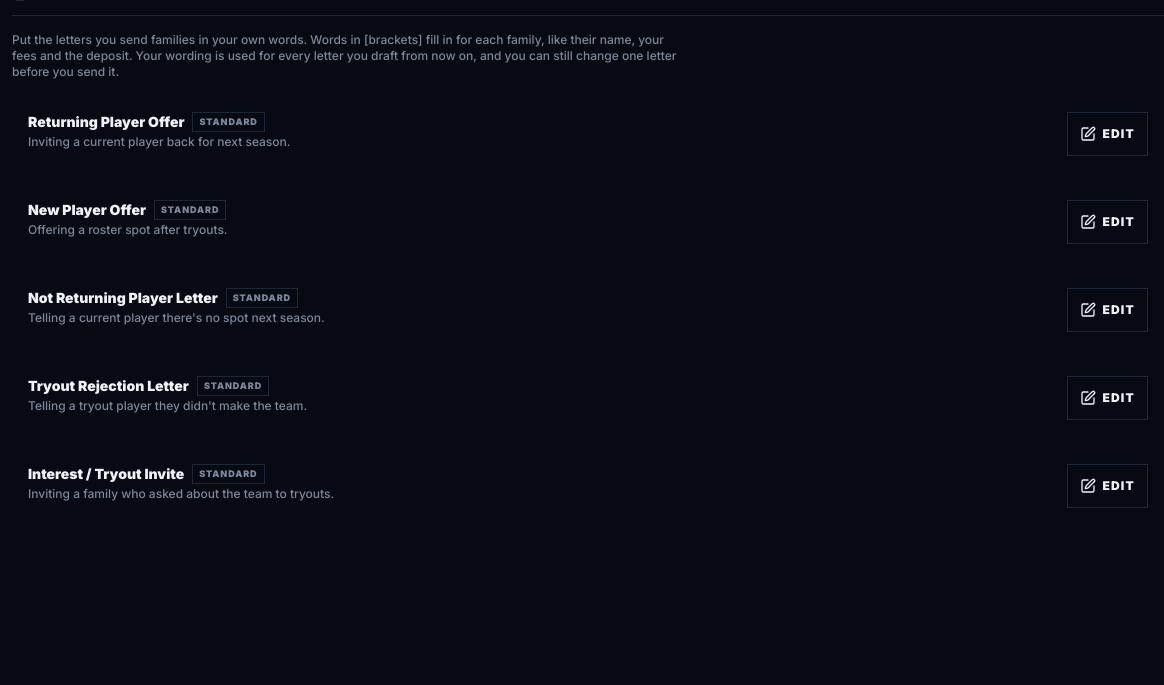
Test: LetterTemplatesPanel › warns about bracketed words that aren't fill-in fields
The width and height of the screenshot is (1164, 685).
Click the button "Edit" in the row of "Tryout Rejection Letter". click: [1108, 398]
box: [1067,376,1148,420]
(page scrolled)
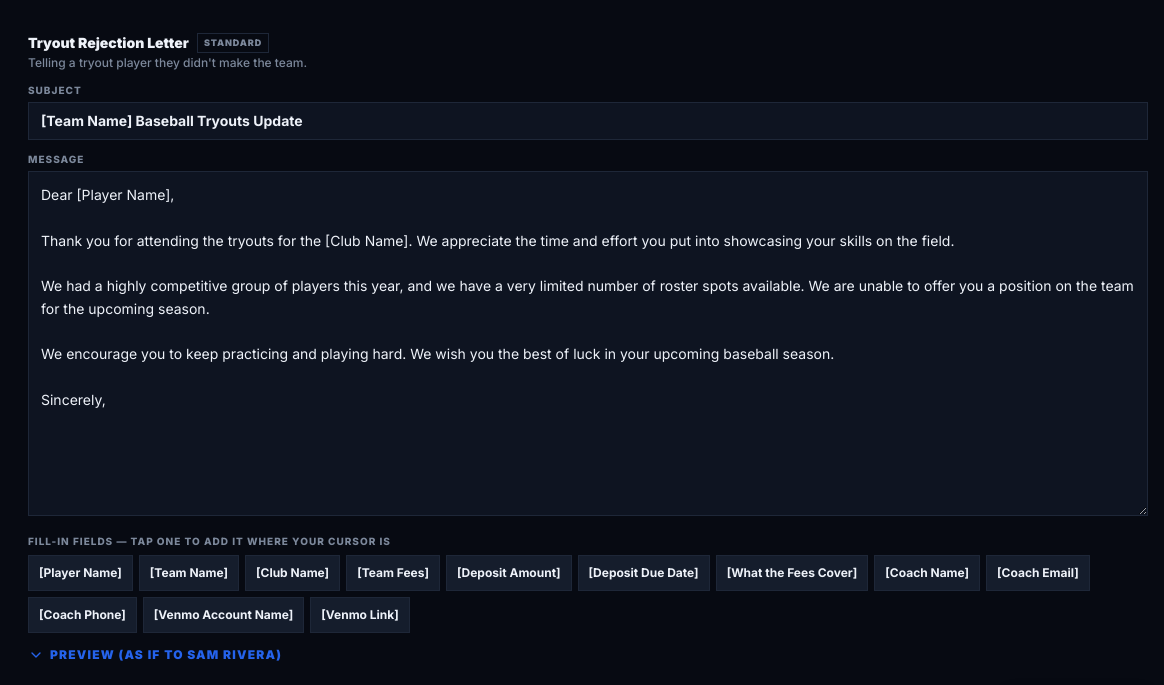
Replace the text in the text box labelled "Message" with "Dear [Player],". click: [588, 343]
box: [28,171,1148,516]
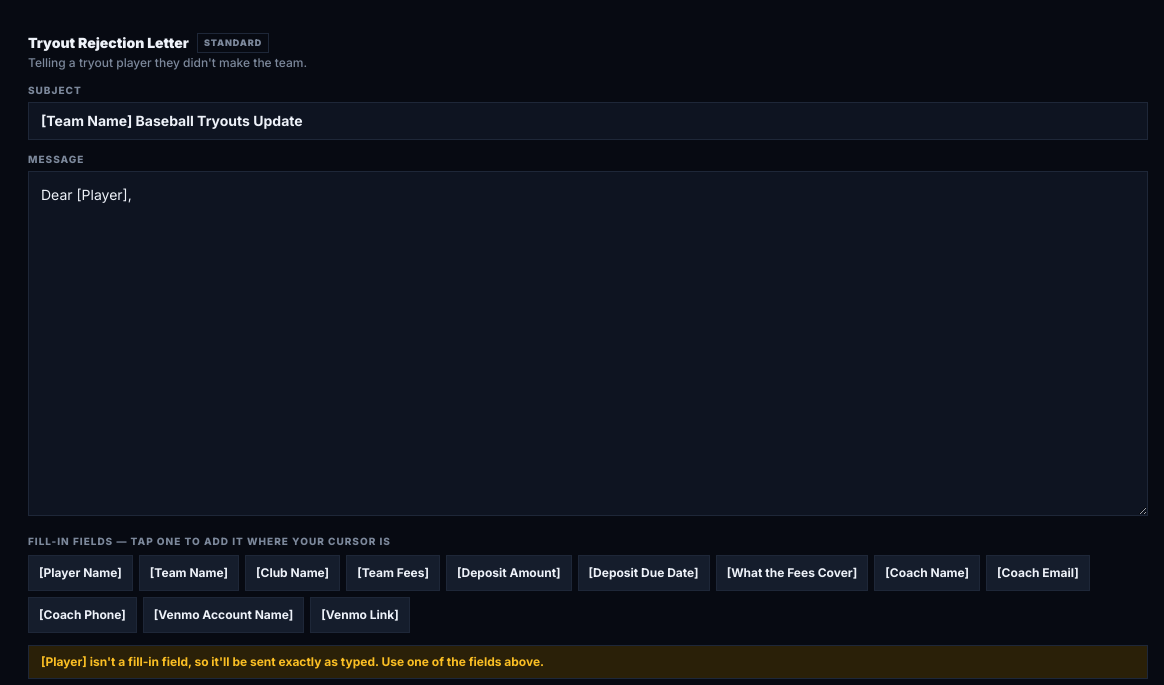
Check: the message shows "[Player] isn't a fill-in field", box [28,644,1148,678]
